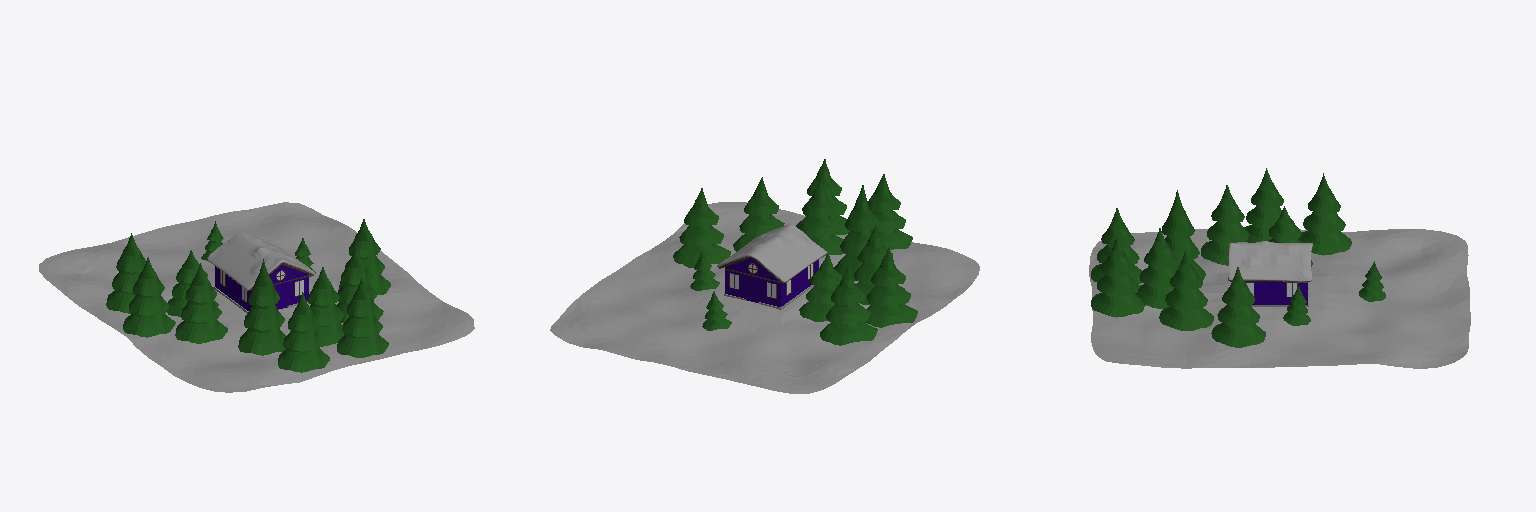
Rendered from terreno.obj.
The picture shows the model from 3 angles: view 1: azimuth 30°, elevation 25°; view 2: azimuth 150°, elevation 25°; view 3: azimuth 270°, elevation 25°; orthographic projection.
Visible parts, largest first — view 1: Plane01, Snow, Object01, Cone09, Cone28, Cone06, Cone18, Cone27, Cone08, Cone07, Cone26, Cone17 (+11 smaller); view 2: Plane01, Snow, Object01, Cone33, Cone18, Cone15, Cone07, Cone17, Cone32, Cone14, Cone22, Cone10 (+10 smaller); view 3: Plane01, Snow, Cone12, Cone15, Cone27, Object01, Cone33, Cone07, Cone11, Cone14, Cone26, Cone32 (+14 smaller).
Boxes of the visible parts, <box> form: Plane01: <box>39,202,474,392</box>; Snow: <box>208,232,314,290</box>; Object01: <box>215,265,308,310</box>; Cone09: <box>238,328,285,355</box>; Cone28: <box>278,348,329,372</box>; Cone06: <box>175,320,227,343</box>; Cone18: <box>123,313,175,337</box>; Cone27: <box>337,334,388,357</box>; Cone08: <box>244,304,284,330</box>; Cone07: <box>248,259,279,306</box>; Cone26: <box>342,315,382,337</box>; Cone17: <box>129,294,169,316</box>; Plane01: <box>550,202,979,393</box>; Snow: <box>717,224,826,282</box>; Object01: <box>725,258,818,306</box>; Cone33: <box>820,321,877,345</box>; Cone18: <box>865,303,917,327</box>; Cone15: <box>673,244,730,267</box>; Cone07: <box>845,185,879,231</box>; Cone17: <box>867,284,910,306</box>; Cone32: <box>826,302,870,324</box>; Cone14: <box>679,224,723,246</box>; Cone22: <box>798,215,842,238</box>; Cone10: <box>744,177,778,216</box>; Plane01: <box>1089,229,1470,368</box>; Snow: <box>1228,241,1313,282</box>; Cone12: <box>1159,306,1213,330</box>; Cone15: <box>1211,323,1265,347</box>; Cone27: <box>1091,292,1145,317</box>; Object01: <box>1252,282,1307,304</box>; Cone33: <box>1298,230,1351,255</box>; Cone07: <box>1162,190,1194,238</box>; Cone11: <box>1165,287,1207,310</box>; Cone14: <box>1217,304,1259,326</box>; Cone26: <box>1097,274,1139,296</box>; Cone32: <box>1303,211,1345,234</box>.
Size of the model in its own units: 608 by 186 by 708.